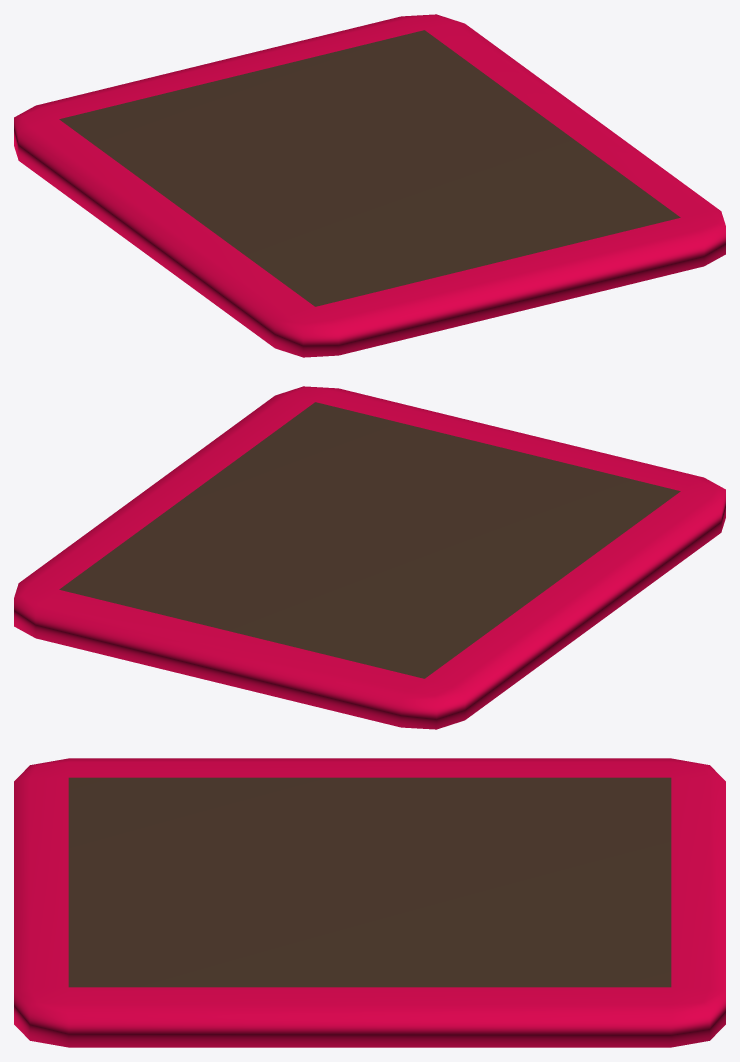
The model's file is Carta.fbx.
3 views of the same model, one above another, from view 1: azimuth 30°, elevation 25°; view 2: azimuth 150°, elevation 25°; view 3: azimuth 270°, elevation 25° (orthographic). The views are drawn at different scales.
Visible parts, largest first — view 1: Cube; view 2: Cube; view 3: Cube.
Part boxes in pixels (left/top/right/bottom): Cube: left=14, top=14, right=725, bottom=357; Cube: left=14, top=386, right=725, bottom=729; Cube: left=14, top=758, right=725, bottom=1047.
Bounding box in the file's own units: 96.29 × 7.21 × 113.
